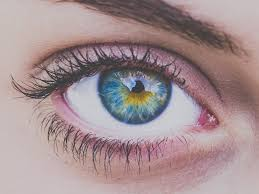pupil: (98, 65, 171, 124)
